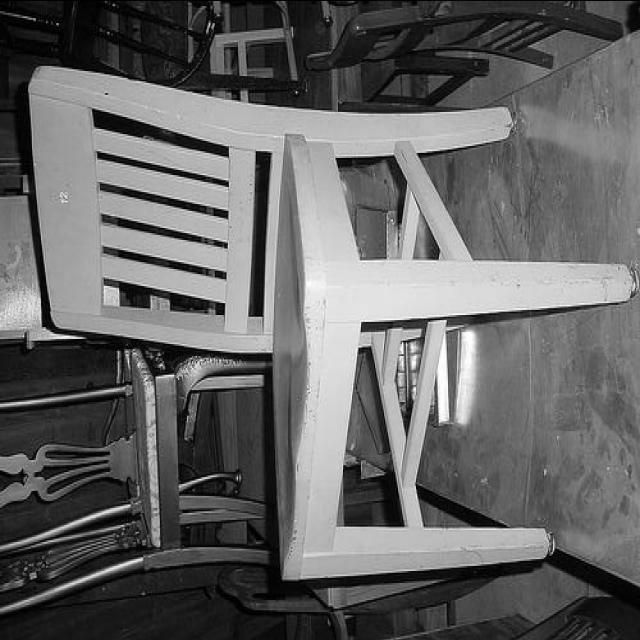chair: (28, 56, 635, 580)
